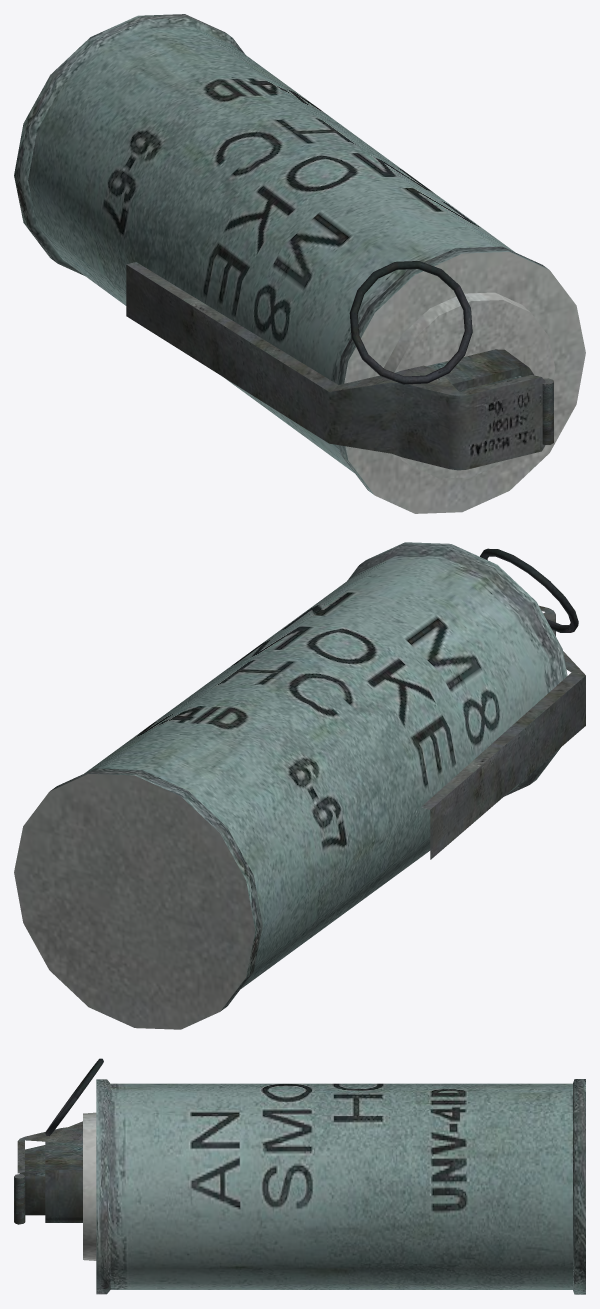
The model's file is weapon_us_smoke_grenade_obj.glb.
3 renders of one model, top to bottom at view 1: azimuth 30°, elevation 25°; view 2: azimuth 150°, elevation 25°; view 3: azimuth 270°, elevation 25°, orthographic. The views are drawn at different scales.
Bounding box in the file's own units: 2.44 × 2.19 × 5.71.
1 material, 1 textured.
